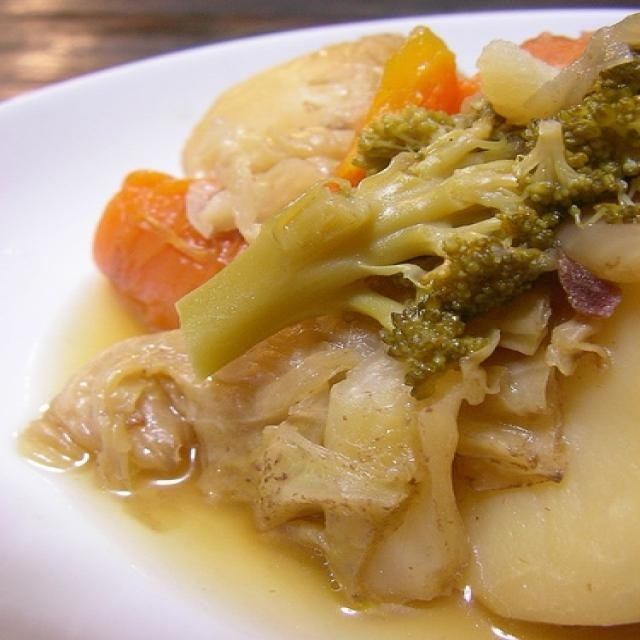汤锅炖物: (24, 28, 631, 611)
